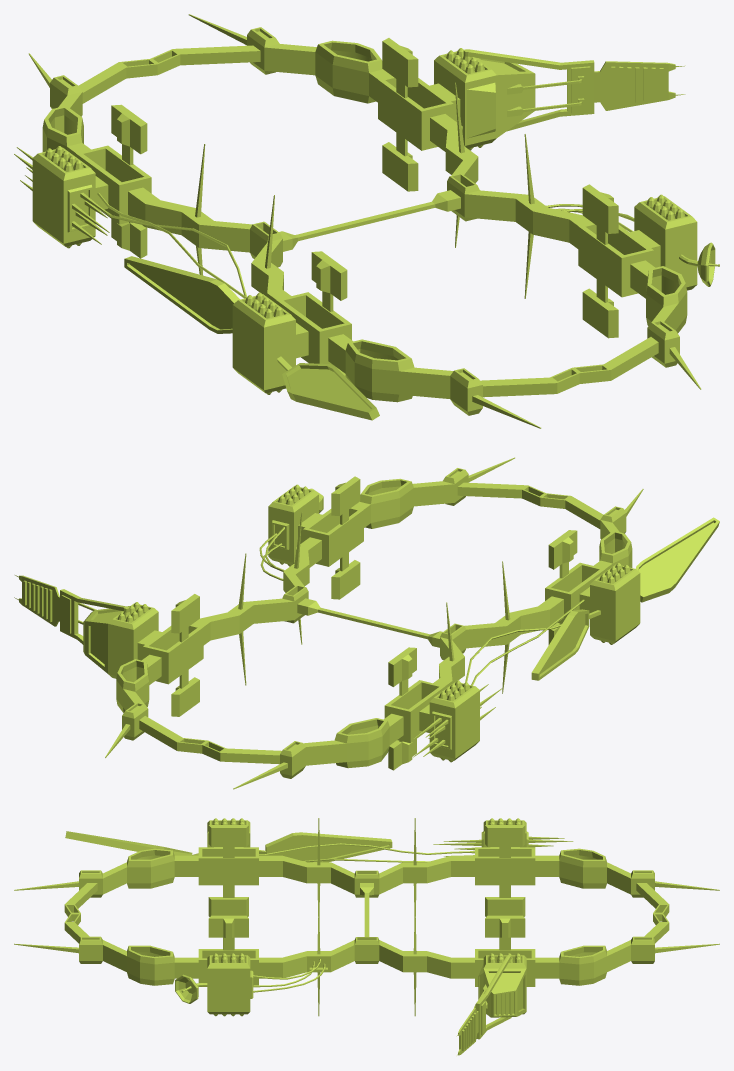
The model's file is JunkerTradeLane.obj.
3 views of the same model, one above another, from view 1: azimuth 30°, elevation 25°; view 2: azimuth 150°, elevation 25°; view 3: azimuth 270°, elevation 25° (orthographic). The views are drawn at different scales.
Visible parts, largest first — view 1: Box01; view 2: Box01; view 3: Box01.
Part boxes in pixels (box(x1,y1,x2,y2)): Box01: box(14, 14, 719, 428); Box01: box(14, 457, 719, 789); Box01: box(14, 818, 719, 1055).
Size of the model in its own units: 203 by 52.35 by 295.
